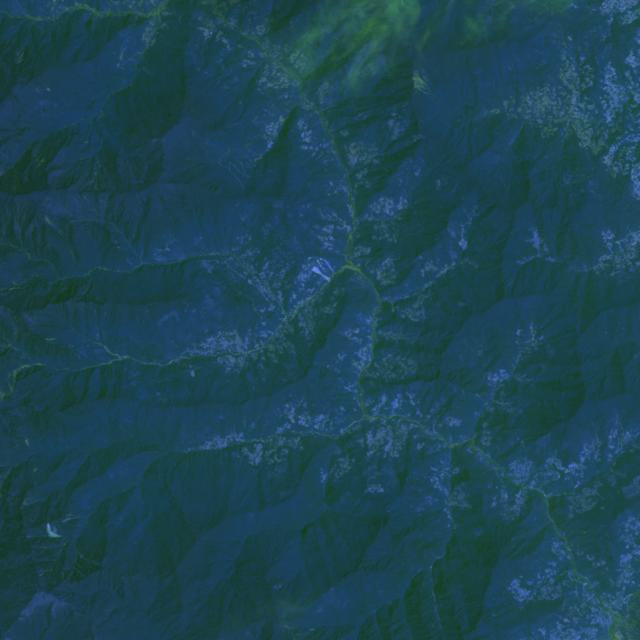landslides: (415, 72, 438, 102), (23, 497, 47, 506), (419, 67, 431, 84), (82, 557, 101, 566), (63, 517, 86, 523), (27, 437, 36, 450), (358, 312, 367, 325), (476, 394, 487, 404), (25, 439, 34, 451), (39, 569, 51, 578), (52, 521, 58, 538)
